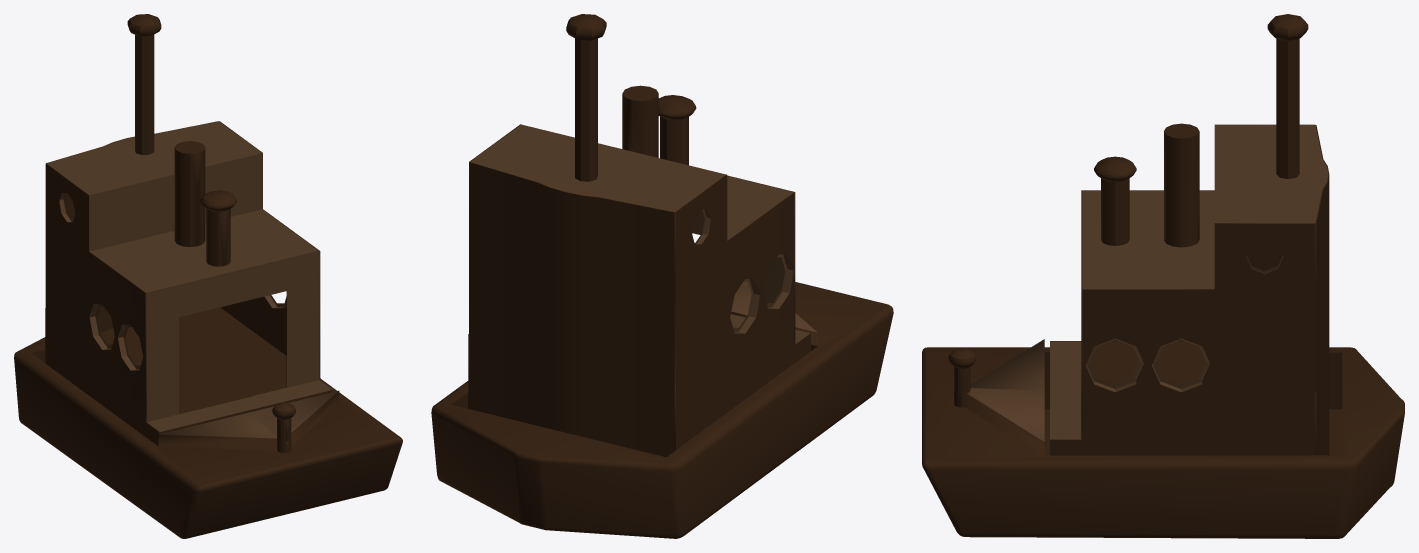
The model's file is barco-scene.glb.
The picture shows the model from 3 angles, left to right: view 1: azimuth 30°, elevation 25°; view 2: azimuth 150°, elevation 25°; view 3: azimuth 270°, elevation 25°; orthographic projection. The views are drawn at different scales.
Visible parts, largest first — view 1: barco.001; view 2: barco.001; view 3: barco.001.
Part boxes in pixels (x1,y1,x2,y2): barco.001: (14, 14, 402, 538); barco.001: (431, 14, 893, 538); barco.001: (922, 14, 1404, 538).
Bounding box in the file's own units: 6.06 × 11.05 × 10.41.
